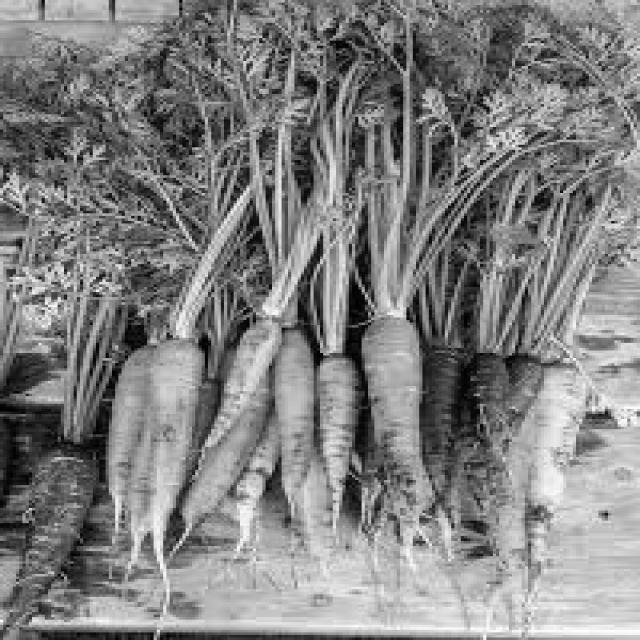Stale_Carrot: (362, 319, 432, 522), (209, 322, 286, 422)
